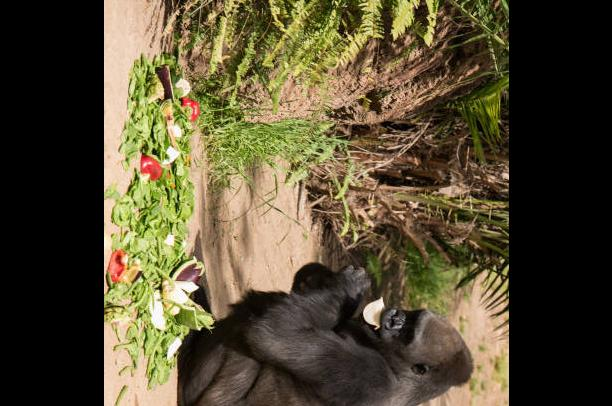gorille_Autres: (184, 259, 480, 406)
